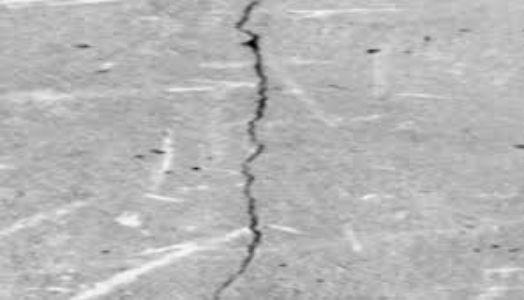crack: (209, 1, 295, 300)
